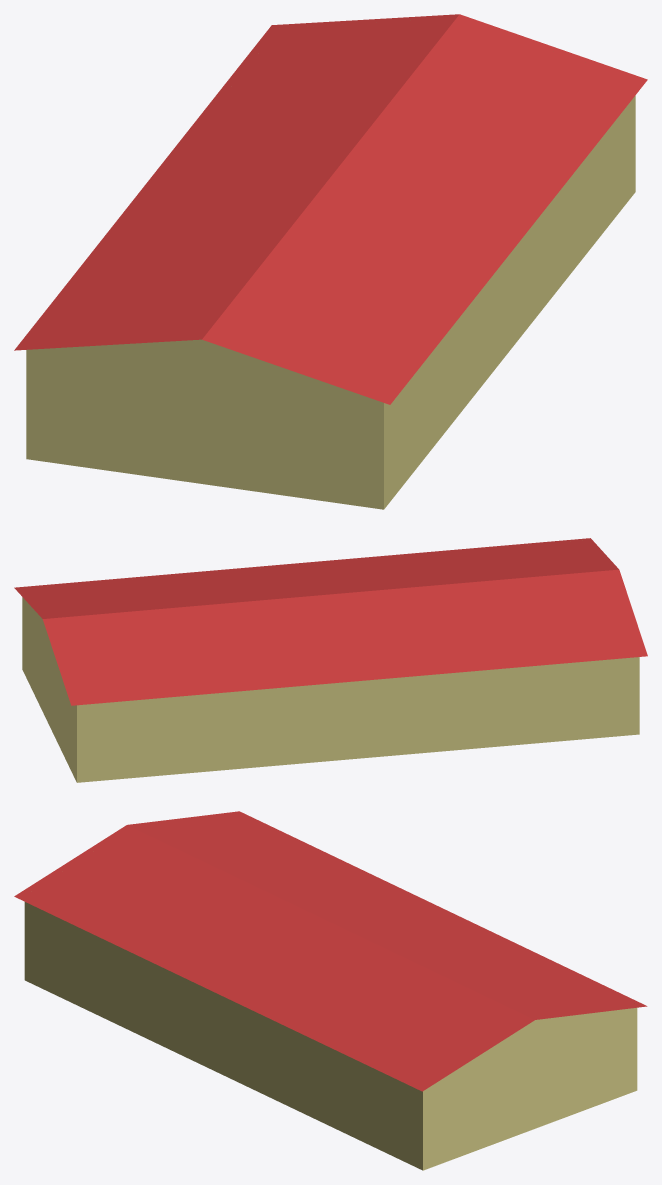
3 renders of one model, top to bottom at view 1: azimuth 30°, elevation 25°; view 2: azimuth 150°, elevation 25°; view 3: azimuth 270°, elevation 25°, orthographic. The views are drawn at different scales.
Parts seen in each view (by area): view 1: group_3, group_5, group_4; view 2: group_3, group_5, group_4; view 3: group_3, group_5, group_4.
Part boxes in pixels (x1,y1,x2,y2): group_3: [14, 14, 634, 397]; group_5: [26, 95, 635, 509]; group_4: [16, 14, 647, 404]; group_3: [23, 540, 647, 700]; group_5: [22, 597, 639, 782]; group_4: [14, 538, 641, 705]; group_3: [25, 811, 636, 1085]; group_5: [24, 902, 637, 1170]; group_4: [14, 813, 647, 1091].
Size of the model in its own units: 44.18 by 42.36 by 8.32.
